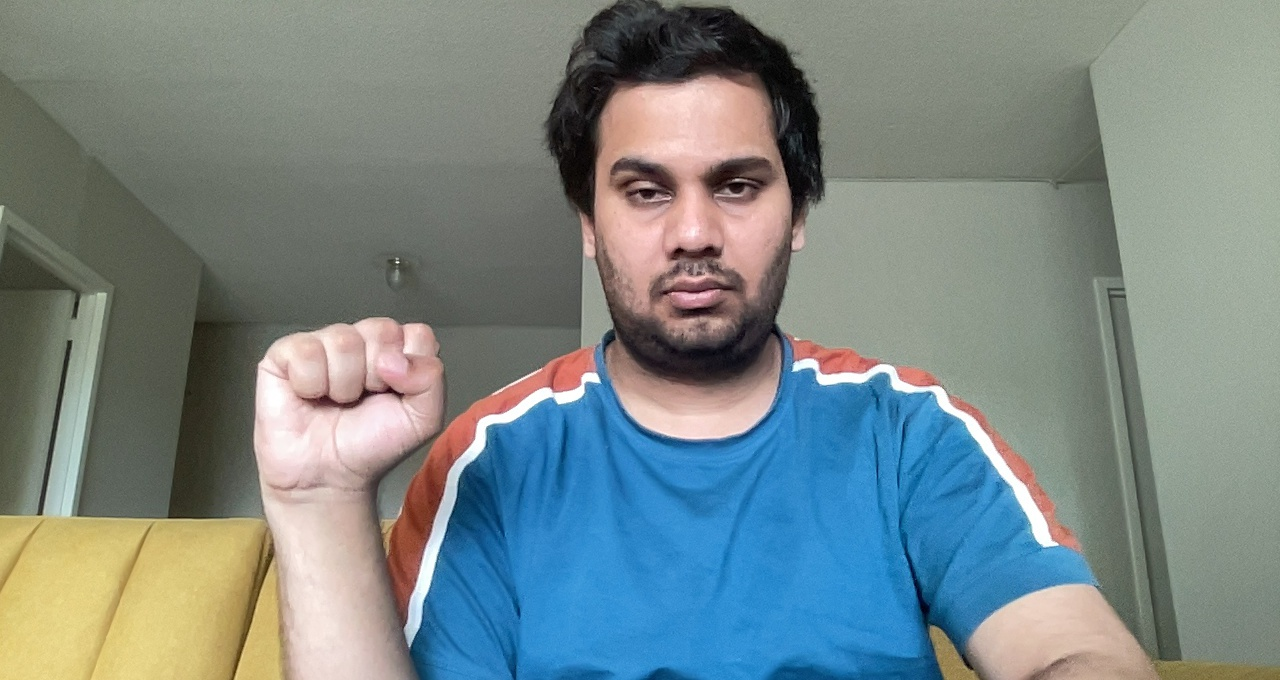closedfist: (240, 310, 455, 500)
